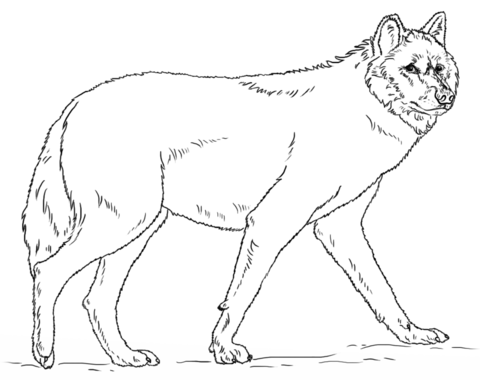Lobo: (22, 6, 457, 362)
